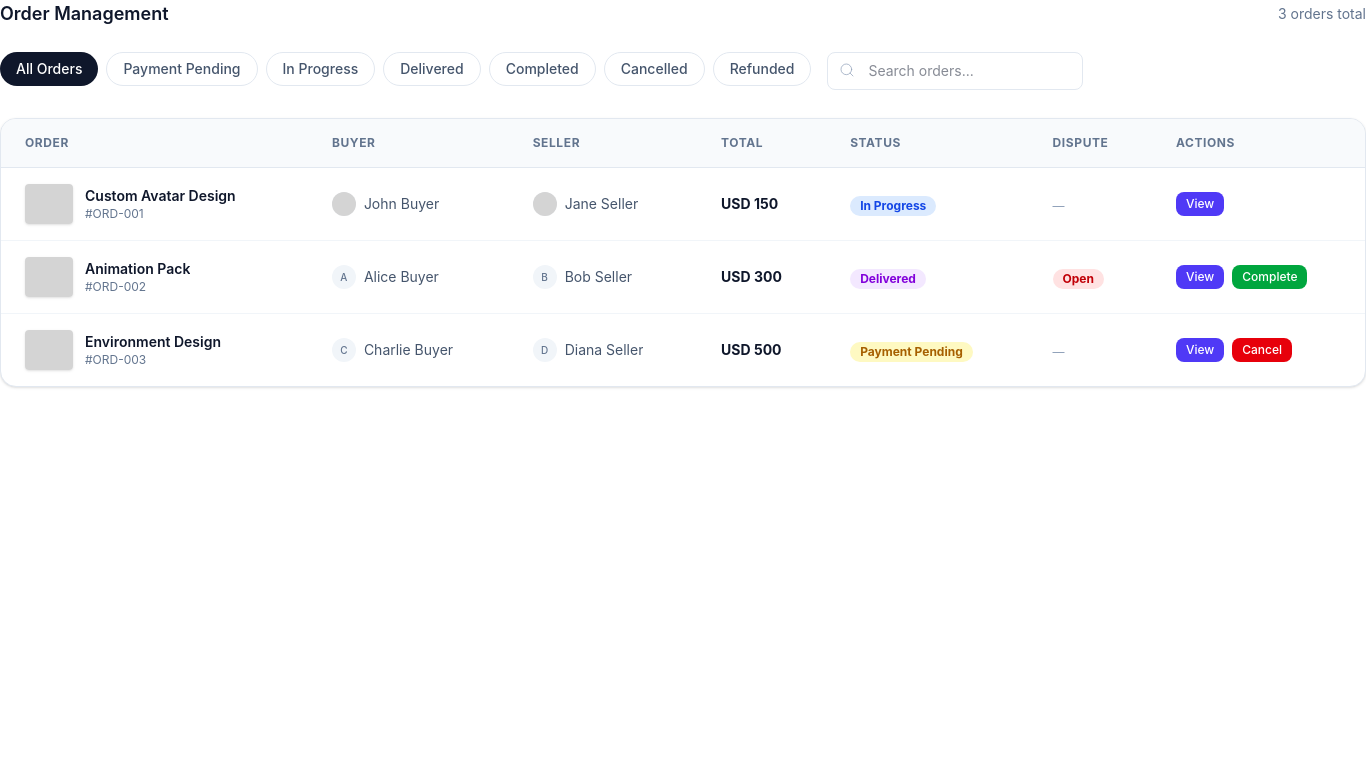
Test: AdminOrderManagement › should show dispute resolution for disputed orders
The width and height of the screenshot is (1366, 768).
What coordinates should you click on to do the following:
click the button "View" in the row of "Animation Pack"
I would click on:
 (1200, 277)
Its box is [1176, 265, 1224, 289].
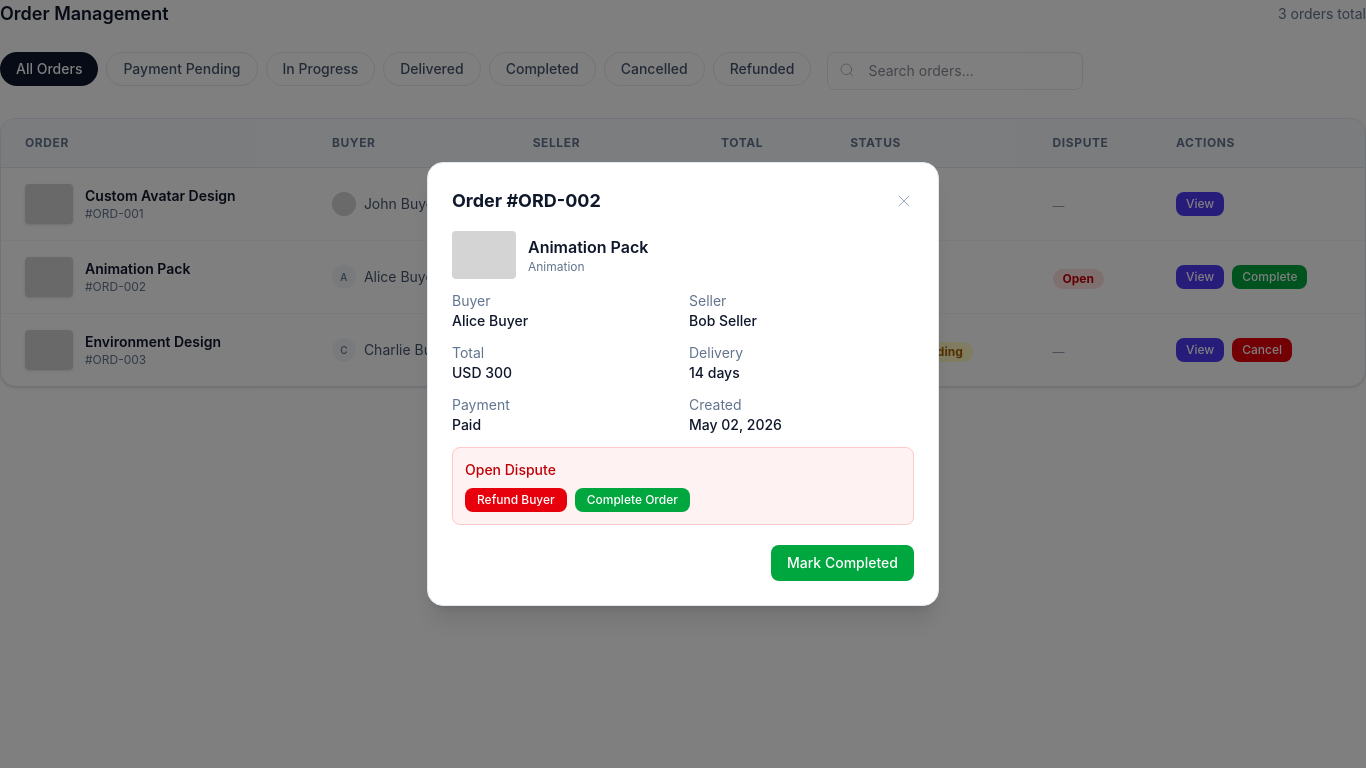
Result: the text "Open Dispute" is shown at [465, 461, 556, 478]
Result: the button "Refund Buyer" is shown at [465, 488, 567, 512]
Result: the button "Complete Order" is shown at [575, 488, 690, 512]
